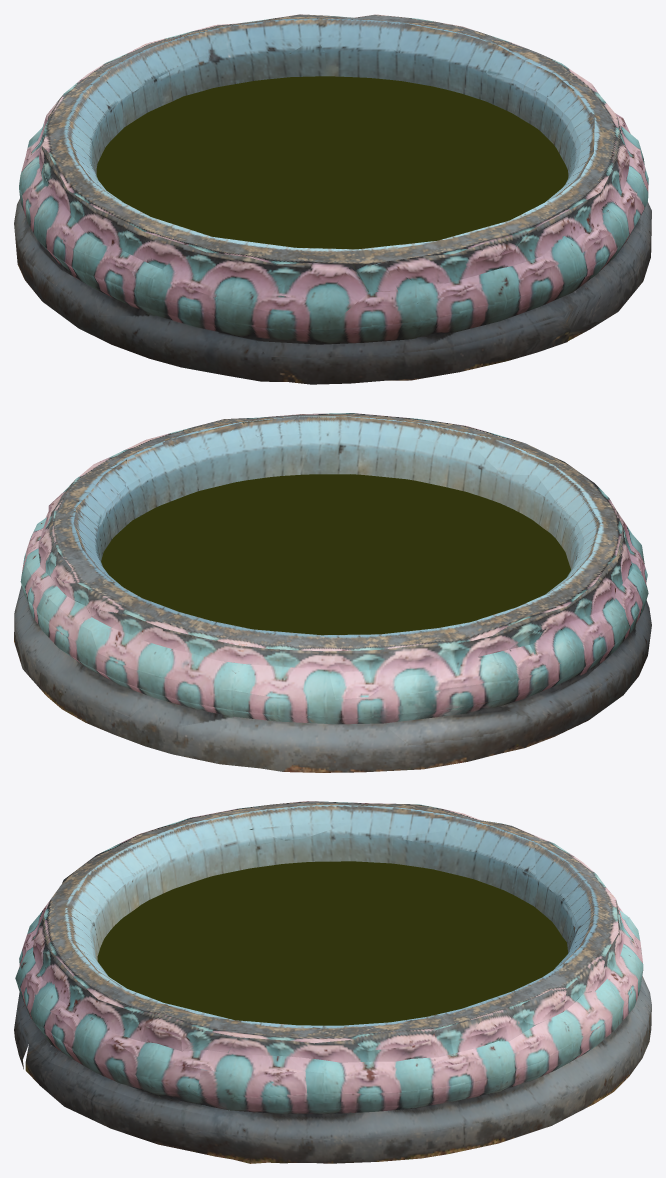
Rendered from pond.gltf.
3 renders of one model, top to bottom at view 1: azimuth 30°, elevation 25°; view 2: azimuth 150°, elevation 25°; view 3: azimuth 270°, elevation 25°, orthographic.
Visible parts, largest first — view 1: Object_2; view 2: Object_2; view 3: Object_2.
Boxes of the visible parts, x1,y1,x2,y2 form: Object_2: (14, 14, 651, 384); Object_2: (14, 413, 651, 772); Object_2: (14, 801, 651, 1163).
Size of the model in its own units: 2.56 by 0.5424 by 2.57.
Materials: 2 (1 with a texture image).
